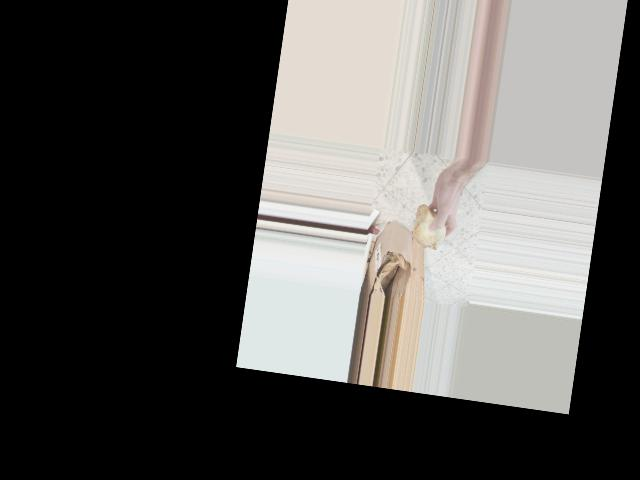onion: (407, 201, 451, 252)
